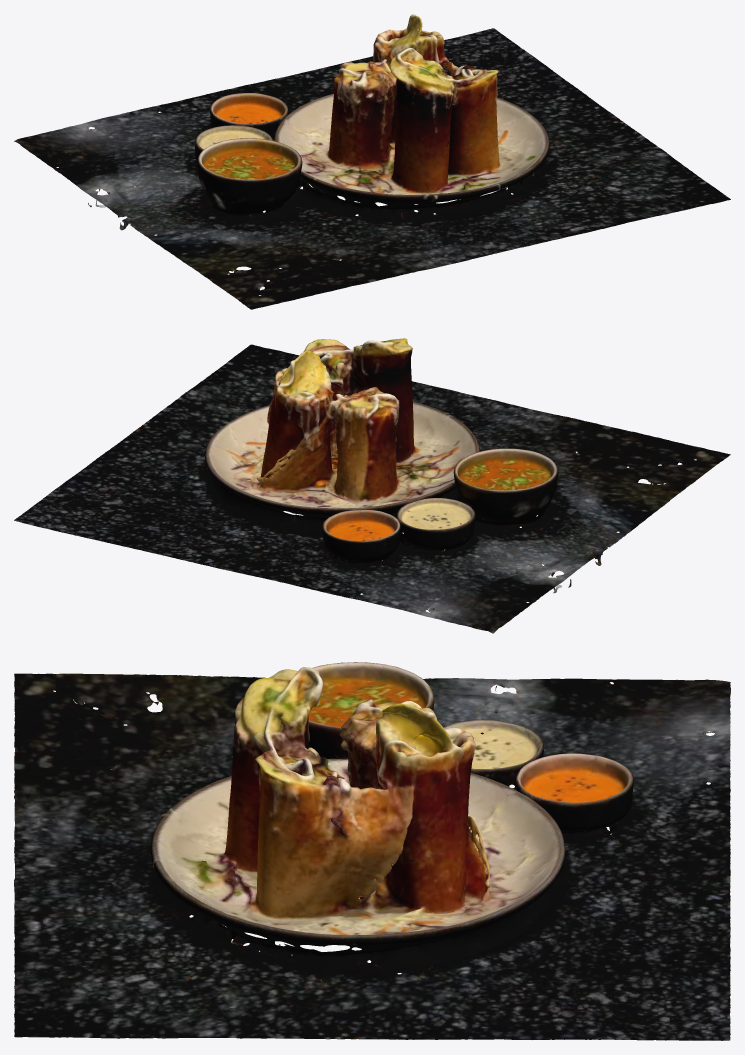
The model's file is pizza_cheese_roast_dosa.glb.
The picture shows the model from 3 angles, top to bottom: view 1: azimuth 30°, elevation 25°; view 2: azimuth 150°, elevation 25°; view 3: azimuth 270°, elevation 25°; orthographic projection. The views are drawn at different scales.
Visible parts, largest first — view 1: 3DModel_Custom; view 2: 3DModel_Custom; view 3: 3DModel_Custom.
Boxes of the visible parts, left/top/right/bottom form: 3DModel_Custom: left=14, top=14, right=730, bottom=309; 3DModel_Custom: left=14, top=338, right=730, bottom=633; 3DModel_Custom: left=14, top=662, right=730, bottom=1040.
Bounding box in the file's own units: 0.4338 × 0.1278 × 0.3716.
Materials: 1 (1 with a texture image).
